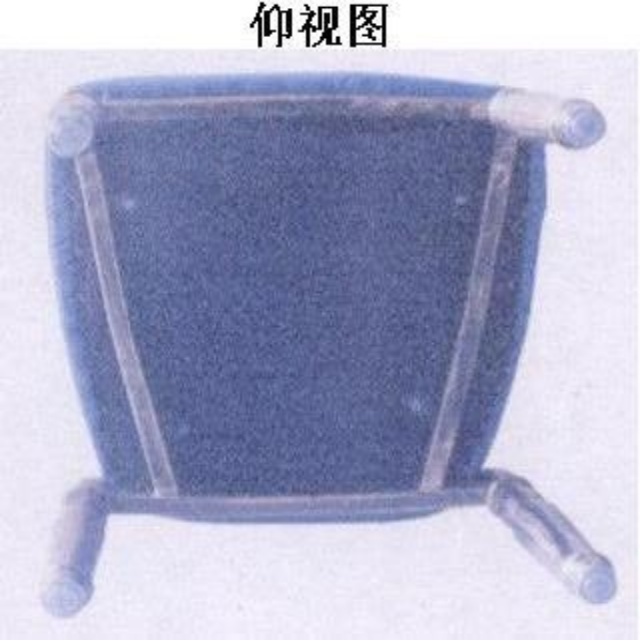obstacle: (44, 73, 614, 614)
